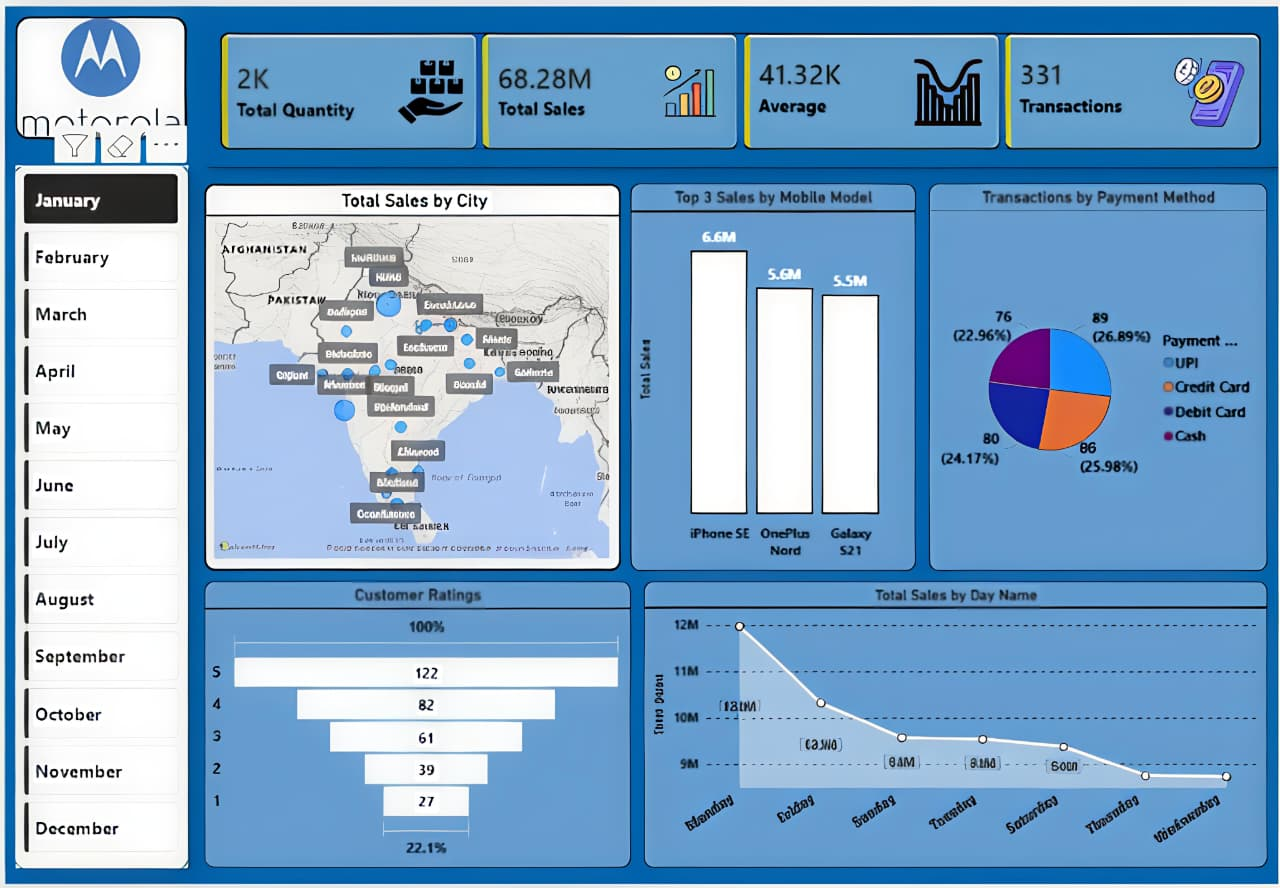

What the dashboard file says about the page in this screenshot:
{"tool":"powerbi","page":{"name":"Final DashBoard","canvas":[1450,1000],"ordinal":0},"visuals":[{"type":"image","box":[11.7,11.7,196,140.8],"z":0},{"type":"cardVisual","fields":{"Data":["sales Data.Total Quantity","sales Data.Total Sales","sales Data.Average","sales Data.Transactions"]},"box":[226.2,11.7,1223.2,169.2],"z":1000},{"type":"map","fields":{"Category":["sales Data.City"],"Size":["sales Data.Total Sales"]},"box":[226.2,201.1,474.2,440.7],"z":2000},{"type":"pieChart","fields":{"Category":["sales Data.Payment Method"],"Y":["sales Data.Transactions"]},"box":[1050.6,201.1,385.4,440.7],"z":3000},{"type":"clusteredColumnChart","title":"Top 3 Sales by Mobile Model","fields":{"Y":["sales Data.Total Sales"],"Category":["sales Data.Mobile Model"]},"box":[712.1,201.1,325.1,440.7],"z":4000},{"type":"stackedAreaChart","fields":{"Y":["sales Data.Total Sales"],"Category":["sales Data.Day Name"]},"box":[725.5,655.2,710.5,326.7],"z":5000},{"type":"funnel","title":"Customer Ratings","fields":{"Category":["sales Data.Customer Ratings"],"Y":["CountNonNull(sales Data.Customer Ratings)"]},"box":[226.2,655.2,485.9,326.7],"z":6000},{"type":"advancedSlicerVisual","fields":{"Values":["sales Data.Date.Variation.Date Hierarchy.Month"]},"box":[11.7,181,196,800.9],"z":7000}]}

Visuals, with their boxes in screenshot pixels (x1, y1, x2, y2), scaled from the page's 1450x1000 canvas onto the 1280x888 screenshot:
image: {"left": 10, "top": 10, "right": 183, "bottom": 135}
cardVisual - sales Data.Total Quantity x sales Data.Total Sales: {"left": 200, "top": 10, "right": 1279, "bottom": 161}
map - sales Data.City x sales Data.Total Sales: {"left": 200, "top": 179, "right": 618, "bottom": 570}
pieChart - sales Data.Payment Method x sales Data.Transactions: {"left": 927, "top": 179, "right": 1268, "bottom": 570}
"Top 3 Sales by Mobile Model" clusteredColumnChart: {"left": 629, "top": 179, "right": 916, "bottom": 570}
stackedAreaChart - sales Data.Total Sales x sales Data.Day Name: {"left": 640, "top": 582, "right": 1268, "bottom": 872}
"Customer Ratings" funnel: {"left": 200, "top": 582, "right": 629, "bottom": 872}
advancedSlicerVisual - sales Data.Date.Variation.Date Hierarchy.Month: {"left": 10, "top": 161, "right": 183, "bottom": 872}
